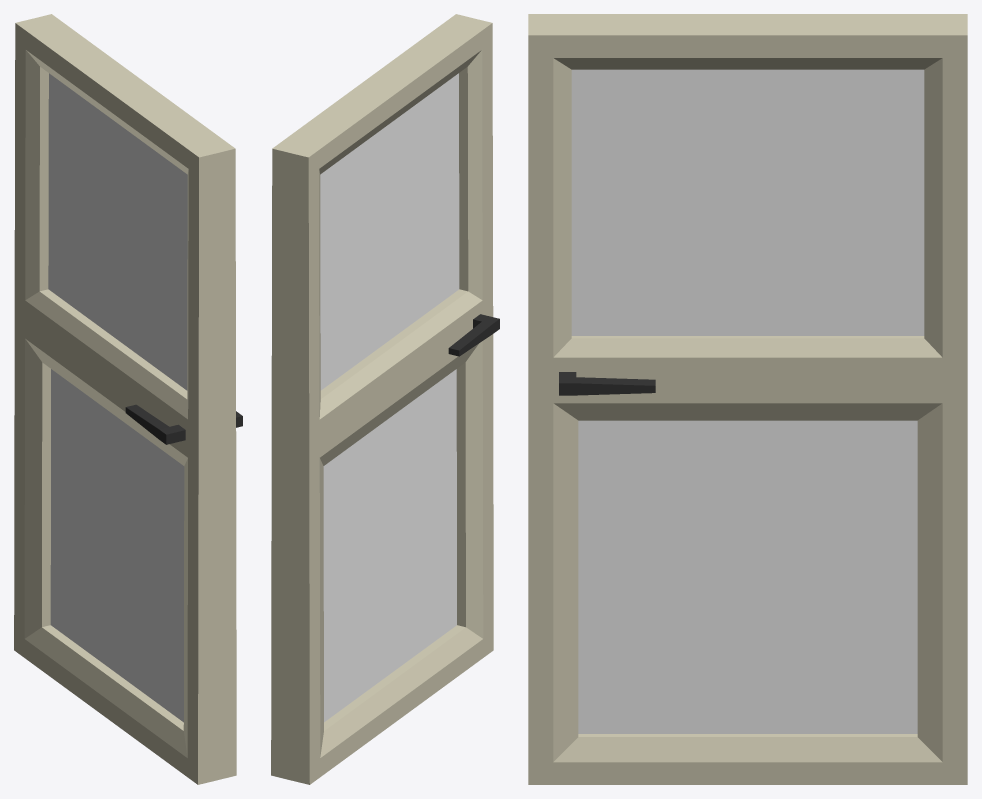
Rendered from B01_porte_3.fbx.
3 views of the same model, side by side, from view 1: azimuth 30°, elevation 25°; view 2: azimuth 150°, elevation 25°; view 3: azimuth 270°, elevation 25° (orthographic). The views are drawn at different scales.
Visible parts, largest first — view 1: B01_porte_3; view 2: B01_porte_3; view 3: B01_porte_3.
Boxes of the visible parts, x1,y1,x2,y2 form: B01_porte_3: (14,14,242,784); B01_porte_3: (271,14,499,784); B01_porte_3: (528,14,967,784).
Size of the model in its own units: 28.62 by 224 by 119.
